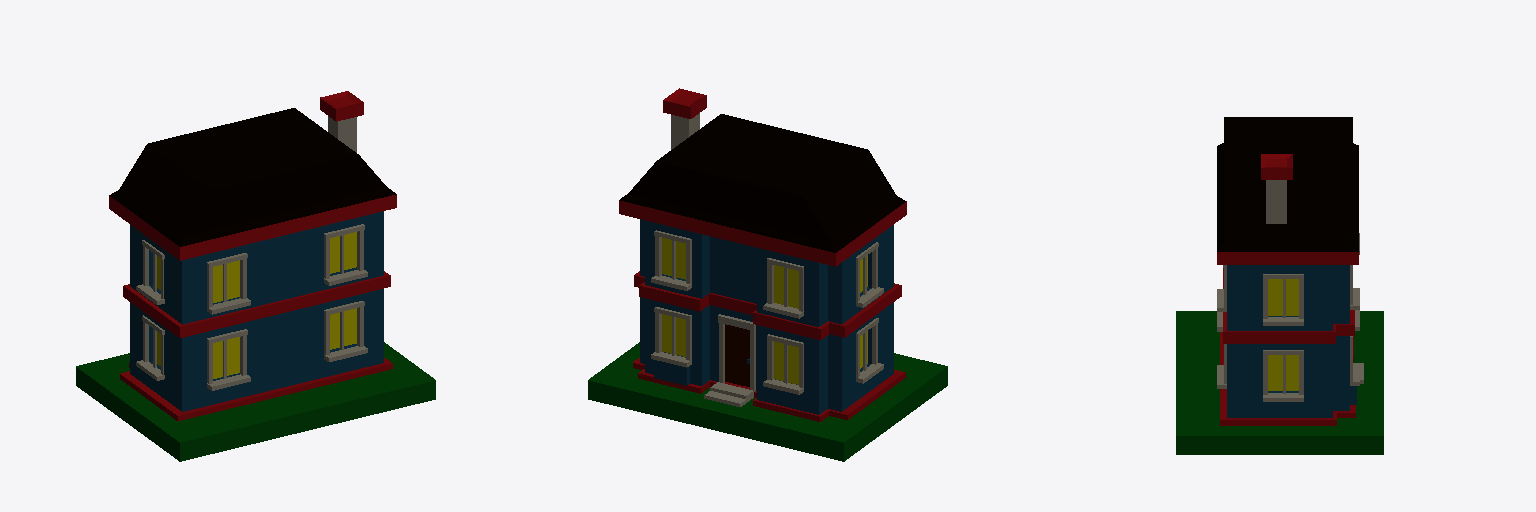
Rendered from BlockHouse2.obj.
3 renders of one model, left to right at view 1: azimuth 30°, elevation 25°; view 2: azimuth 150°, elevation 25°; view 3: azimuth 270°, elevation 25°, orthographic.
Parts seen in each view (by area): view 1: Cube, Cube.006, Cube.001, Cube.007, Cube.005_Cube.020, Cube.011_Cube.021, Cube.020_Cube.023, Cube.012_Cube.022, Cube.015, Cube.014; view 2: Cube, Cube.006, Cube.001, Cube.004, Cube.007, Cube.002, Cube.003, Cube.017, Cube.018, Cube.014, Cube.015; view 3: Cube.006, Cube, Cube.001, Cube.007, Cube.008, Cube.009.
Boxes of the visible parts, x1=… form: Cube: x1=120, y1=211, x2=392, y2=420; Cube.006: x1=109, y1=108, x2=396, y2=260; Cube.001: x1=76, y1=342, x2=435, y2=461; Cube.007: x1=320, y1=91, x2=363, y2=152; Cube.005_Cube.020: x1=207, y1=329, x2=250, y2=390; Cube.011_Cube.021: x1=207, y1=253, x2=250, y2=314; Cube.020_Cube.023: x1=324, y1=224, x2=367, y2=285; Cube.012_Cube.022: x1=324, y1=301, x2=367, y2=361; Cube.015: x1=136, y1=315, x2=164, y2=380; Cube.014: x1=136, y1=240, x2=164, y2=304; Cube: x1=633, y1=219, x2=905, y2=421; Cube.006: x1=619, y1=114, x2=906, y2=266; Cube.001: x1=588, y1=342, x2=947, y2=461; Cube.004: x1=704, y1=314, x2=755, y2=406; Cube.007: x1=663, y1=88, x2=706, y2=149; Cube.002: x1=651, y1=307, x2=691, y2=367; Cube.003: x1=651, y1=230, x2=691, y2=290; Cube.017: x1=763, y1=334, x2=803, y2=394; Cube.018: x1=763, y1=258, x2=803, y2=318; Cube.014: x1=856, y1=242, x2=883, y2=307; Cube.015: x1=856, y1=318, x2=883, y2=383; Cube.006: x1=1217, y1=117, x2=1358, y2=264; Cube: x1=1220, y1=265, x2=1356, y2=425; Cube.001: x1=1176, y1=311, x2=1383, y2=454; Cube.007: x1=1261, y1=154, x2=1292, y2=223; Cube.008: x1=1263, y1=274, x2=1303, y2=325; Cube.009: x1=1263, y1=350, x2=1303, y2=401.
Size of the model in its own units: 28.03 by 28.51 by 19.78.